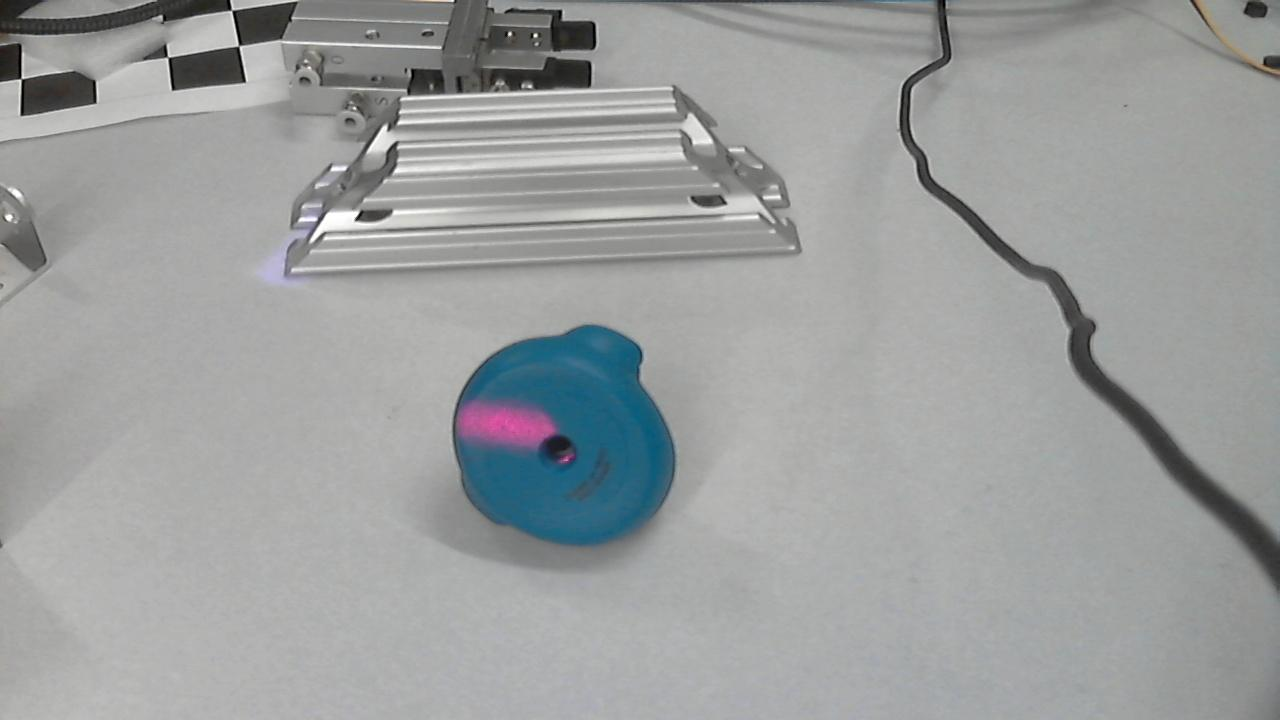Object rubber duck - Material rubber -Color blue - Pdfname BWuUnwTLudUE: (447, 385, 595, 480)
